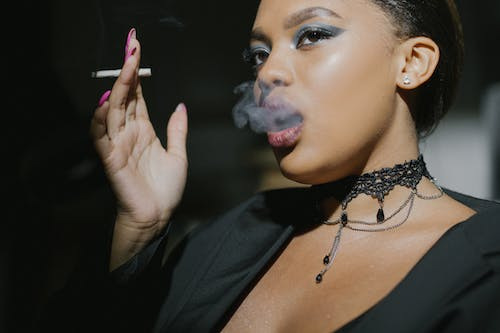cigarette: (89, 66, 153, 79)
